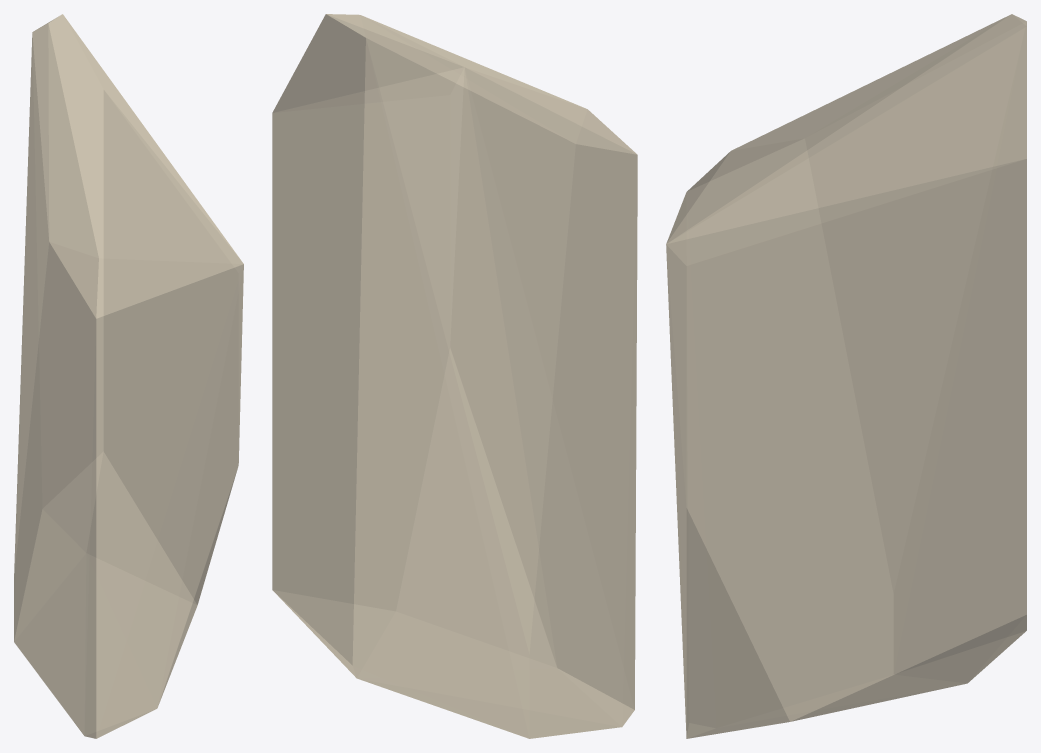
3 renders of one model, left to right at view 1: azimuth 30°, elevation 25°; view 2: azimuth 150°, elevation 25°; view 3: azimuth 270°, elevation 25°, orthographic. The views are drawn at different scales.
Parts seen in each view (by area): view 1: Shape_IndexedFaceSet.265_Shape_IndexedFaceSet.9726; view 2: Shape_IndexedFaceSet.265_Shape_IndexedFaceSet.9726; view 3: Shape_IndexedFaceSet.265_Shape_IndexedFaceSet.9726.
Boxes of the visible parts, x1,y1,x2,y2 form: Shape_IndexedFaceSet.265_Shape_IndexedFaceSet.9726: (14, 14, 243, 738); Shape_IndexedFaceSet.265_Shape_IndexedFaceSet.9726: (272, 14, 637, 738); Shape_IndexedFaceSet.265_Shape_IndexedFaceSet.9726: (666, 14, 1026, 738).
Bounding box in the file's own units: 0.0377 × 0.1533 × 0.0656.
